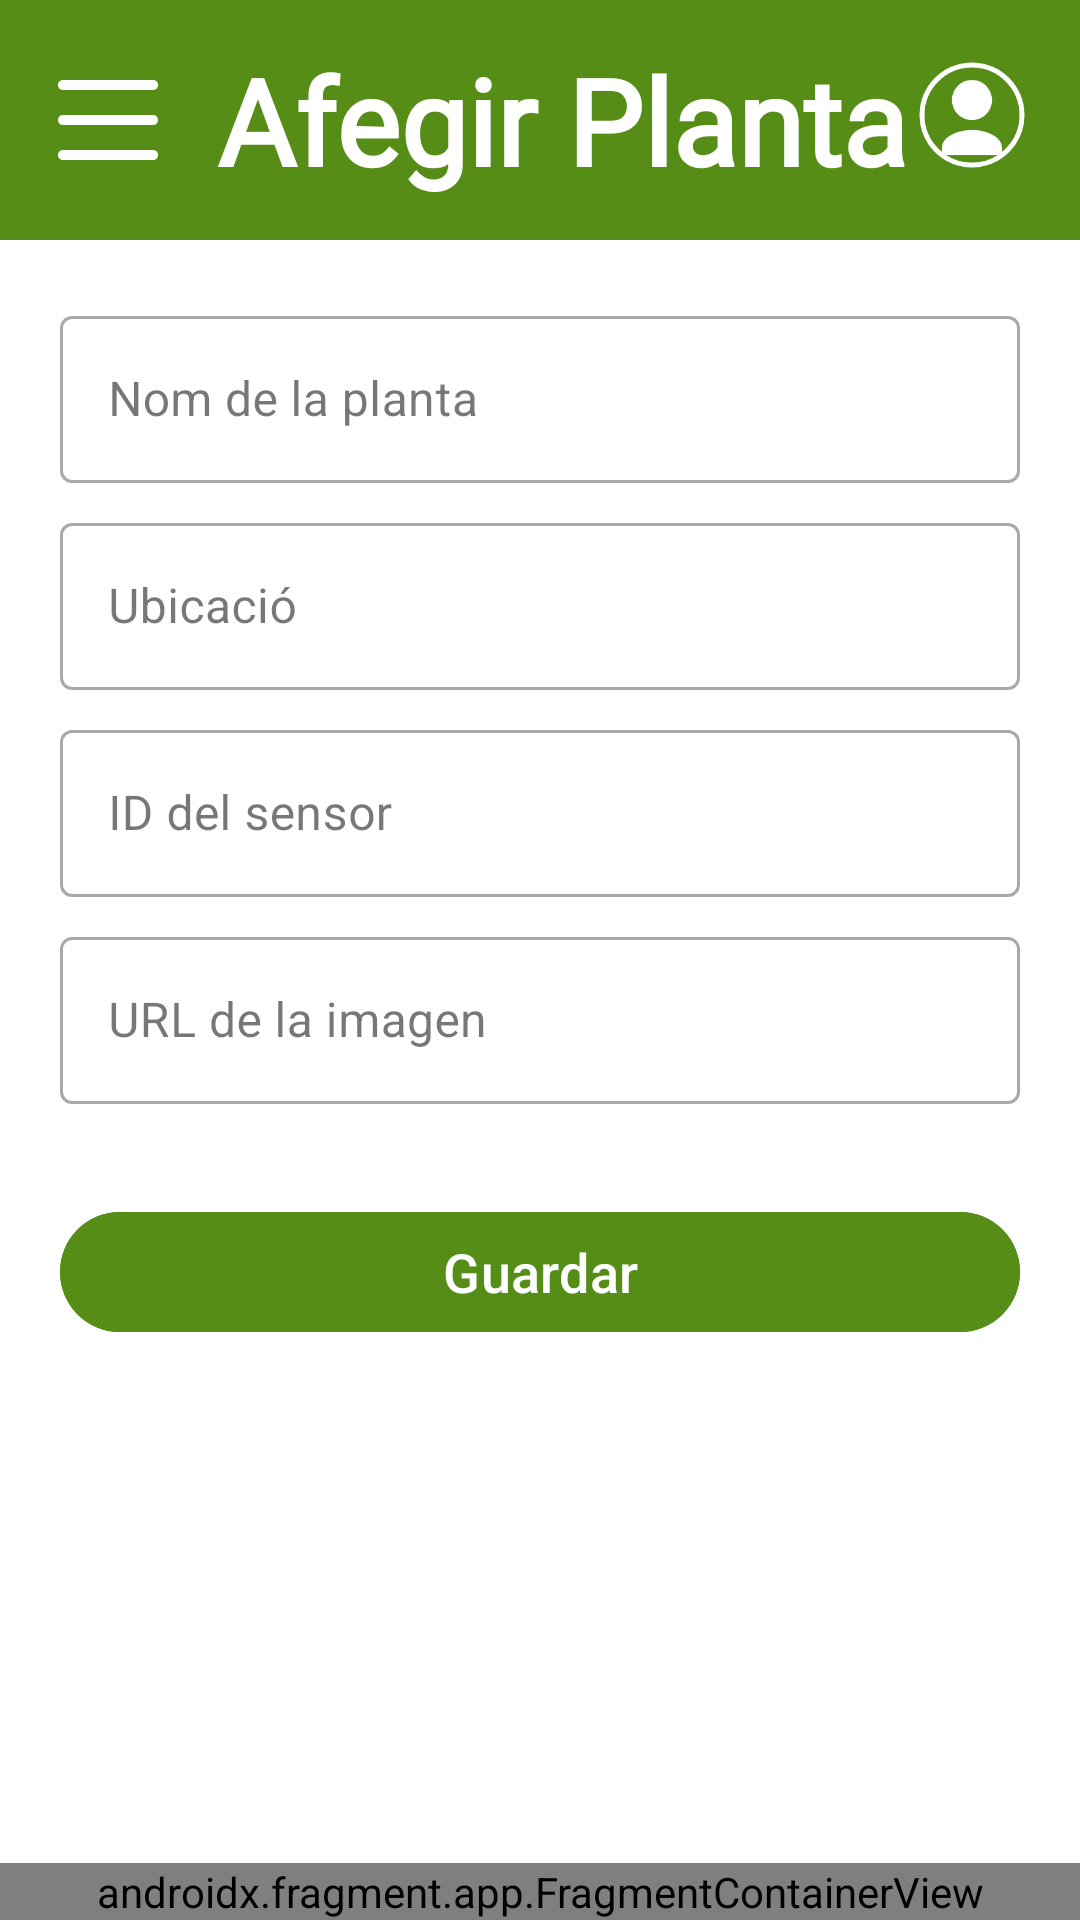

Icons on this 1080px x 1920px Android screen, each with the point to tap as (x=x, y=y):
menu: (x=108, y=120)
user: (x=972, y=115)
